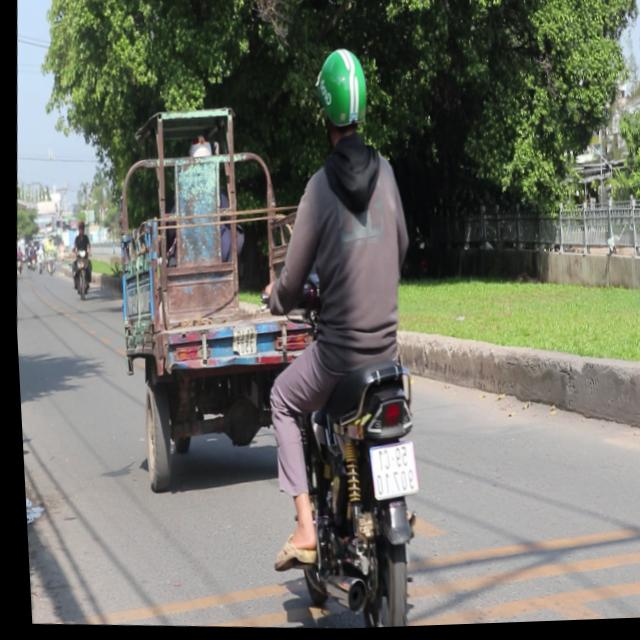helmet: (310, 47, 373, 156)
licenseplate: (229, 39, 447, 633)
nohelmet: (361, 442, 415, 504)
